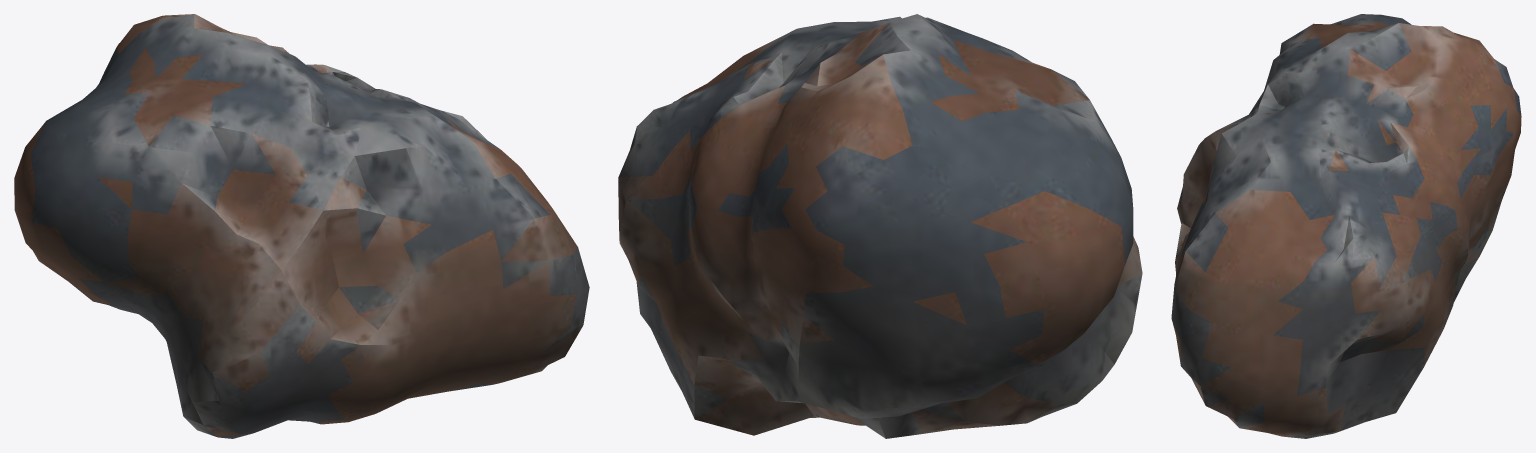
The model's file is small-metallic-asteroid.glb.
3 renders of one model, left to right at view 1: azimuth 30°, elevation 25°; view 2: azimuth 150°, elevation 25°; view 3: azimuth 270°, elevation 25°, orthographic. The views are drawn at different scales.
Visible parts, largest first — view 1: body; view 2: body; view 3: body.
Part boxes in pixels (x1,y1,x2,y2): body: (14,14,589,438); body: (618,14,1142,438); body: (1171,14,1521,438).
Size of the model in its own units: 1.93 by 1.48 by 1.44.
1 material, 1 textured.
